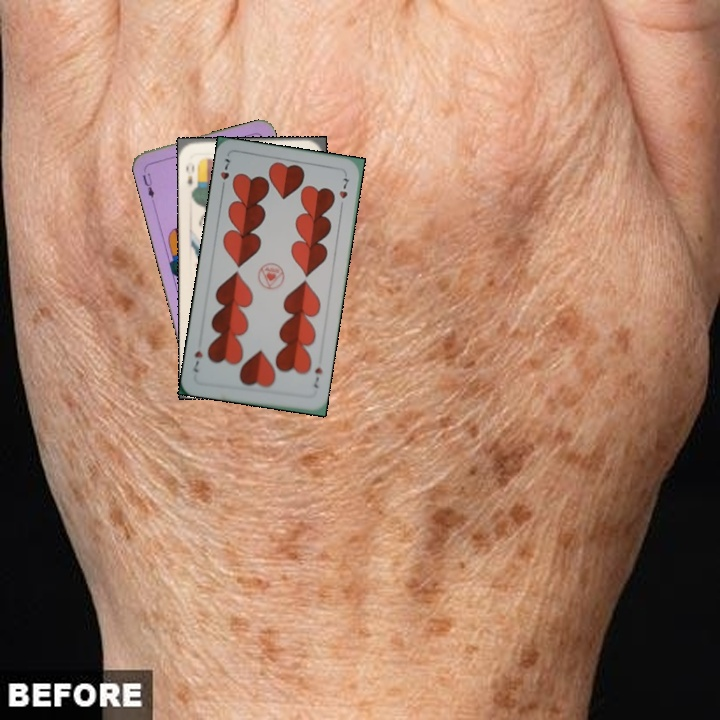EO: (182, 160, 197, 189)
EU: (138, 164, 157, 205)
H7: (216, 154, 233, 193), (310, 363, 325, 390)
